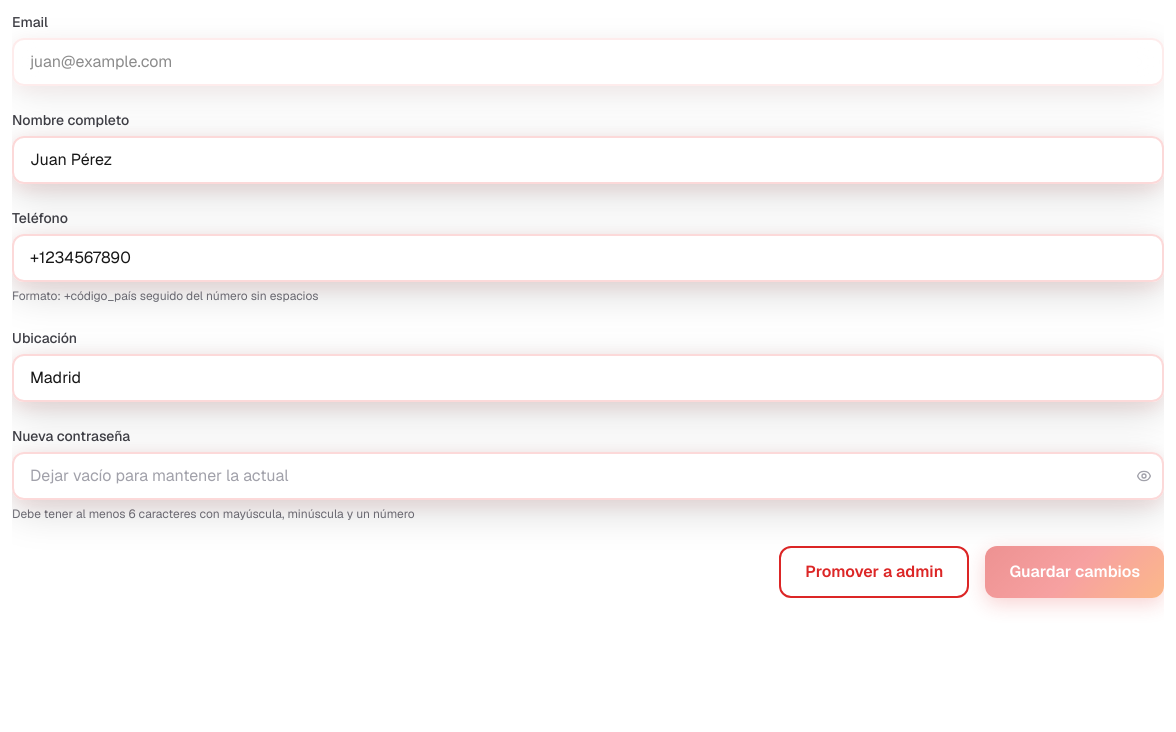
Test case: UserForm › valida número de teléfono incorrecto
Replace the text in the field labelled "Teléfono" with "12345" at (588, 258), box top-left (12, 234), bottom-right (1164, 282)
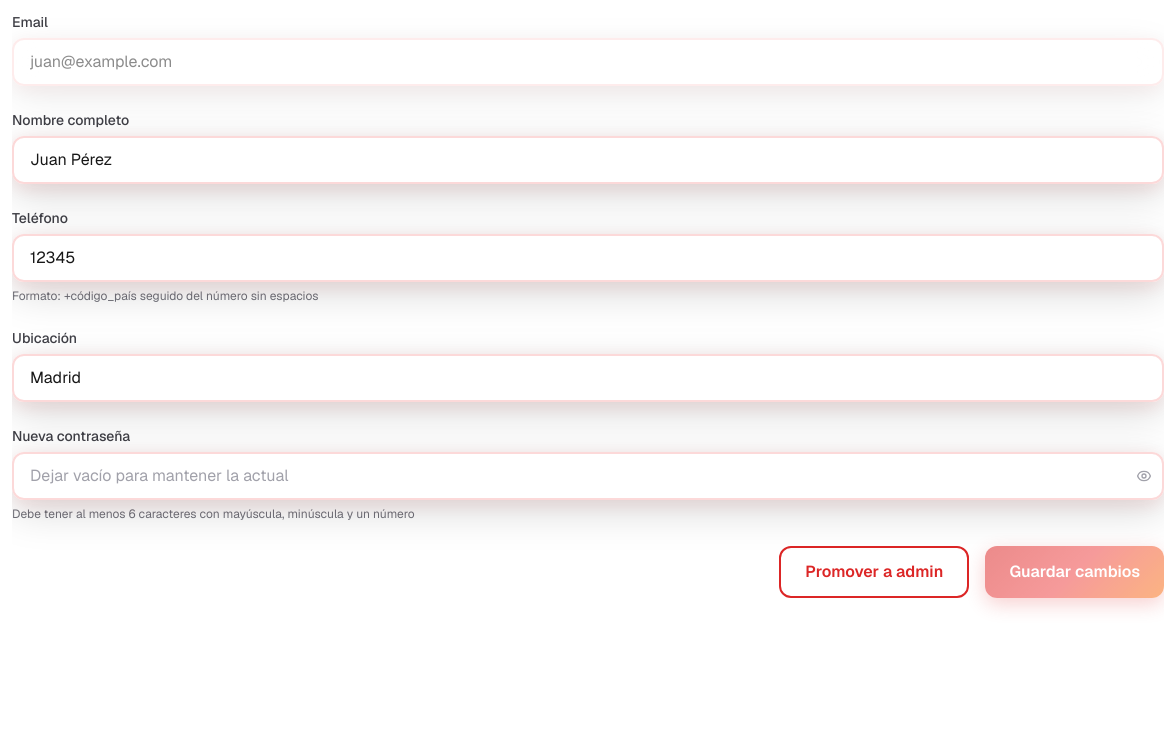
Click the button "Guardar cambios".
click(1075, 572)  # box top-left (985, 546), bottom-right (1164, 598)
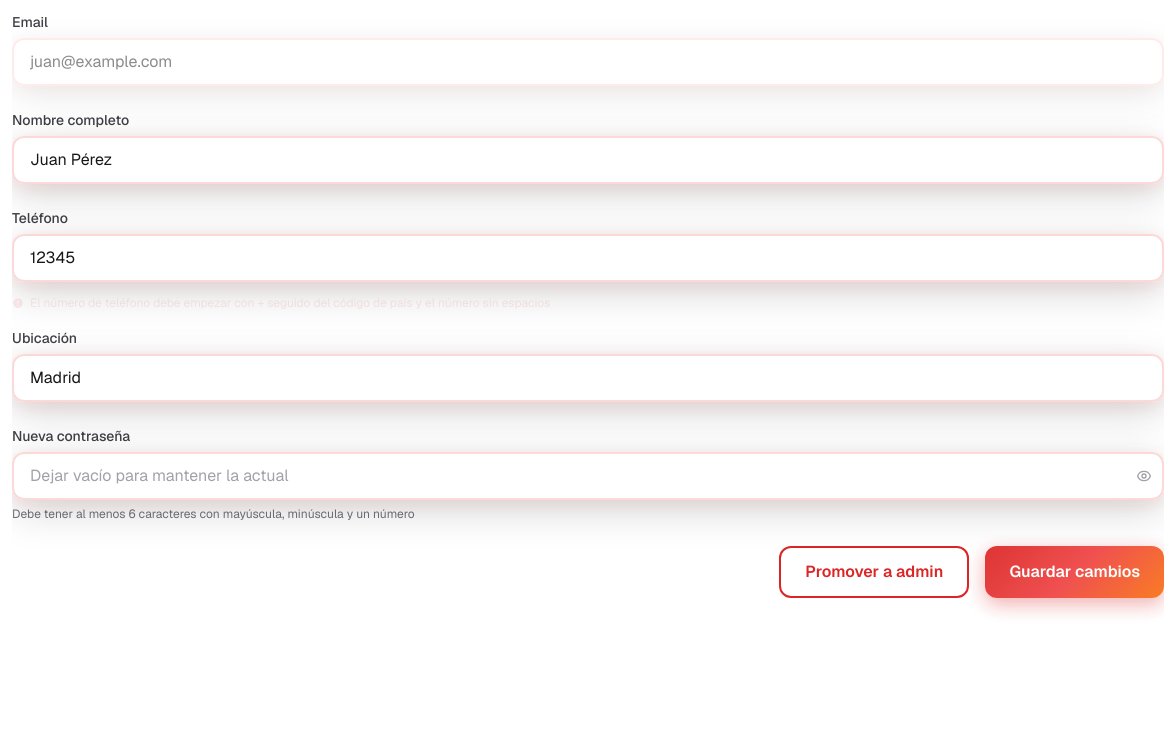
Check: the text "debe empezar con +" is shown, box top-left (30, 295), bottom-right (550, 311)
